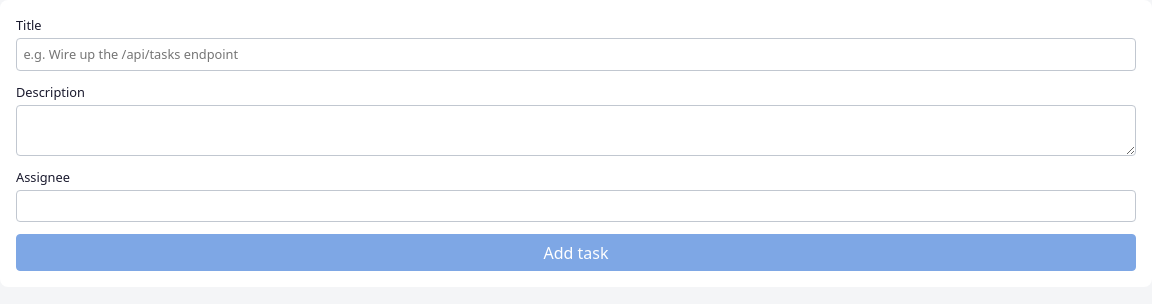
TaskForm › keeps submit disabled until a title is entered
Expected: the button "Add task" is disabled, [16,234,1136,271]
Type "New task" into the field labelled "Title" at (576, 54), box [16,38,1136,71]
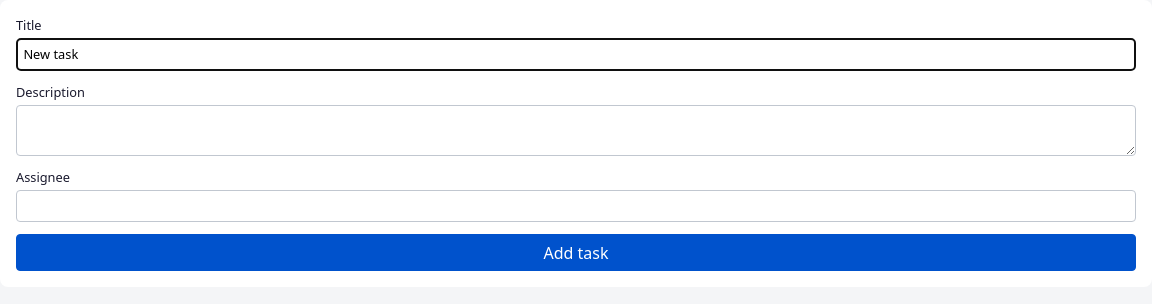
Now the button "Add task" is enabled, box [16,234,1136,271]
